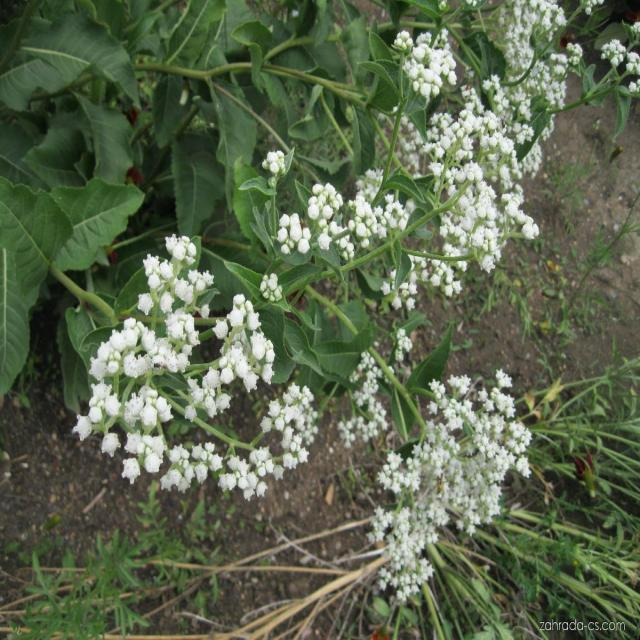Poisonous-Parthenium: (68, 229, 312, 492), (362, 344, 533, 568), (329, 123, 509, 314), (403, 0, 575, 138)
